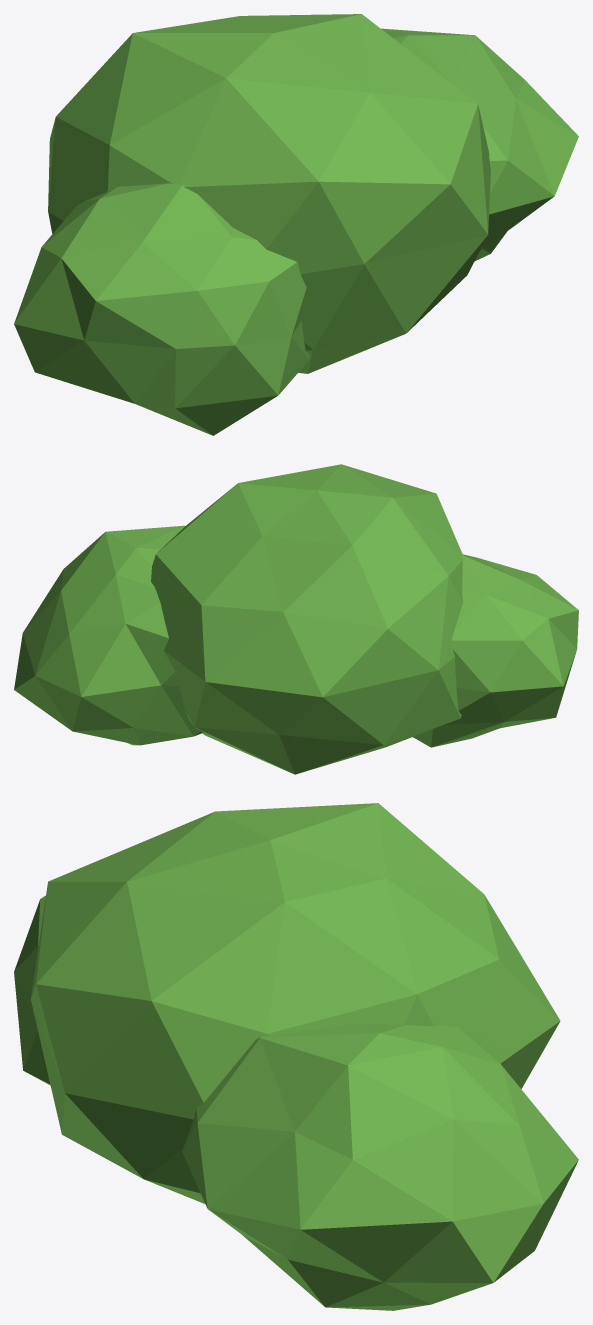
File: bush_cube.glb
3 views of the same model, one above another, from view 1: azimuth 30°, elevation 25°; view 2: azimuth 150°, elevation 25°; view 3: azimuth 270°, elevation 25° (orthographic). The views are drawn at different scales.
Visible parts, largest first — view 1: Icosphere; view 2: Icosphere; view 3: Icosphere.
Boxes of the visible parts, x1,y1,x2,y2 form: Icosphere: (14, 14, 578, 435); Icosphere: (14, 464, 578, 774); Icosphere: (14, 803, 578, 1310).
Bounding box in the file's own units: 0.8648 × 0.4501 × 0.6207.
